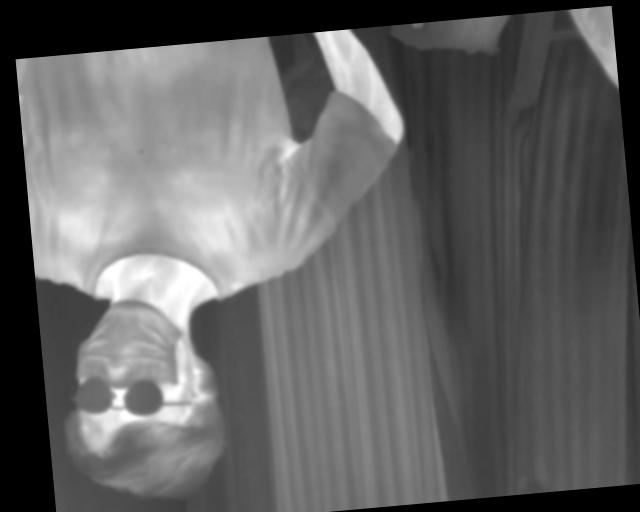face: (59, 291, 231, 506)
